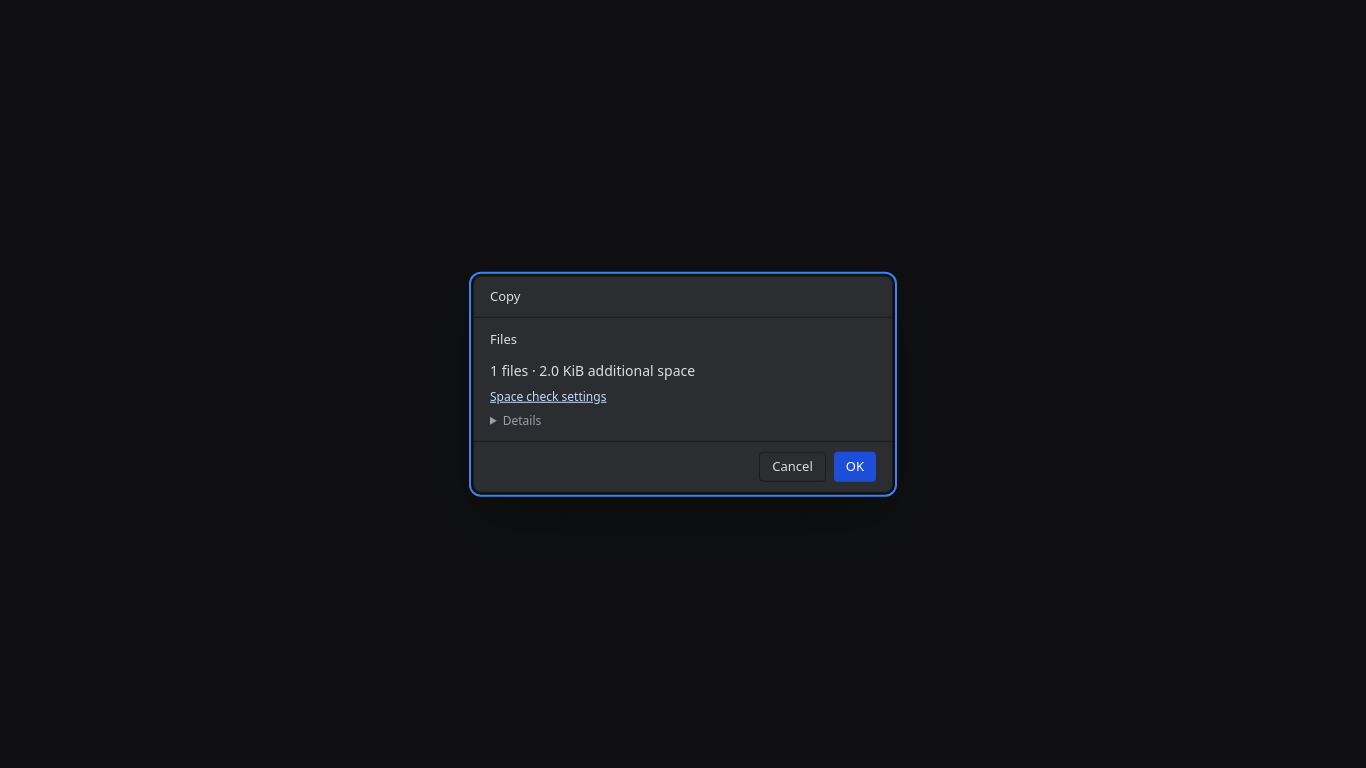
Test: keeps extra information collapsed and opens the quota settings before refreshing the review
Expected: the text "1 files · 2.0 KiB additional space" is shown, left=490, top=361, right=695, bottom=380
Expected: the text "Full preservation of" is not shown
What coordinates should you click on to do the following:
click the heading "Details"
I would click on:
 (522, 420)
Its box is left=503, top=412, right=541, bottom=429.
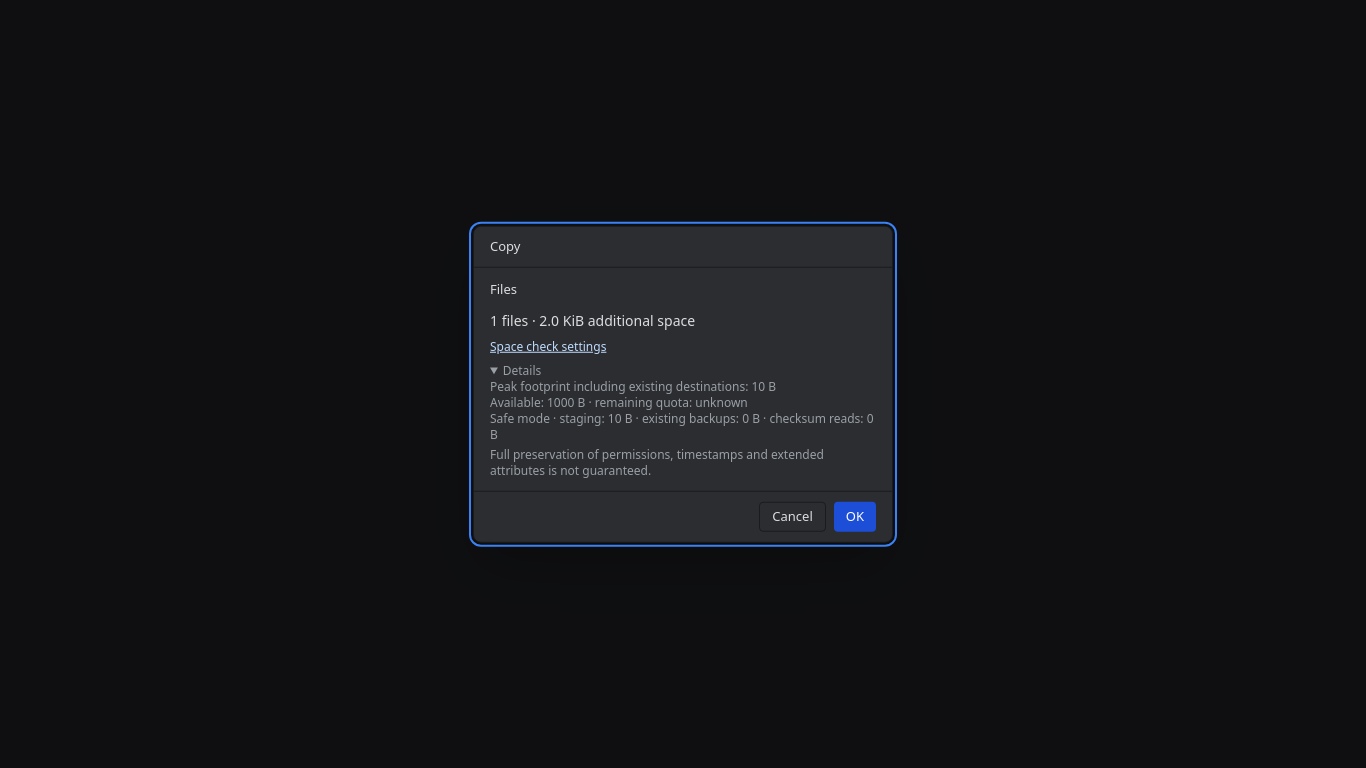
Expected: the list item "Full preservation of" is shown, left=490, top=446, right=824, bottom=479
What coordinates should you click on to do the following:
click the button "Space check settings"
I would click on:
 (548, 347)
Its box is left=490, top=339, right=606, bottom=355.
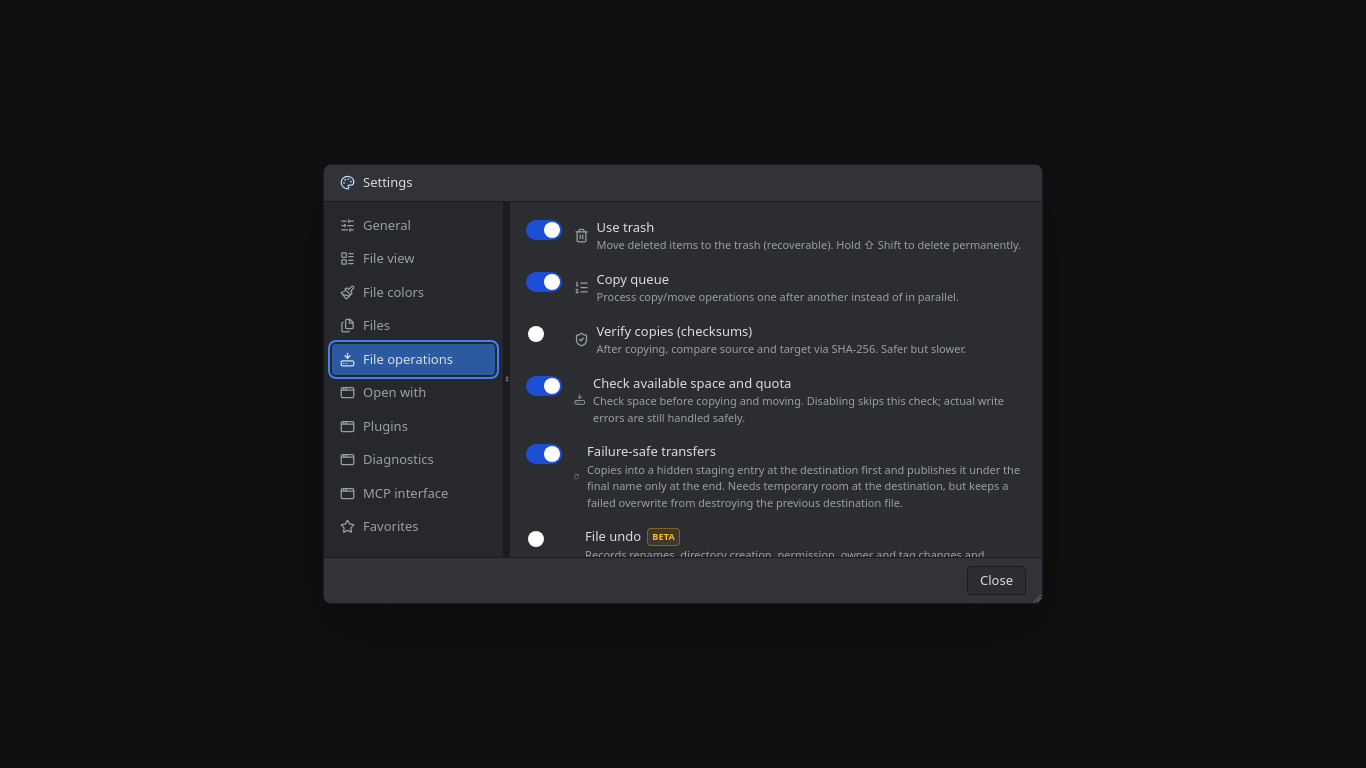
Expected: the button "OK" is gone
What coordinates should you click on to do the following:
click the switch named "Check available space and quota"
I would click on:
 (544, 386)
Its box is left=526, top=376, right=562, bottom=396.
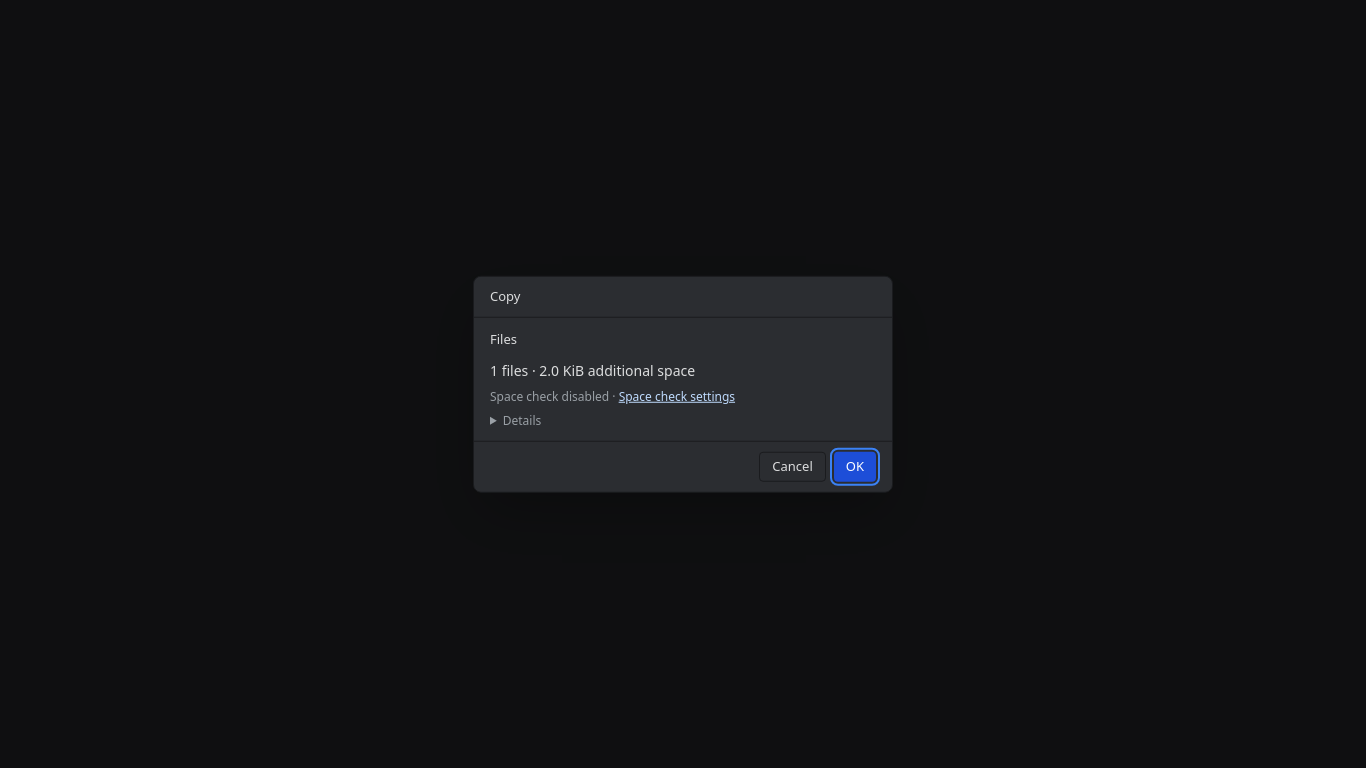
Expected: the text "Space check disabled ·" is shown, left=490, top=388, right=619, bottom=405
